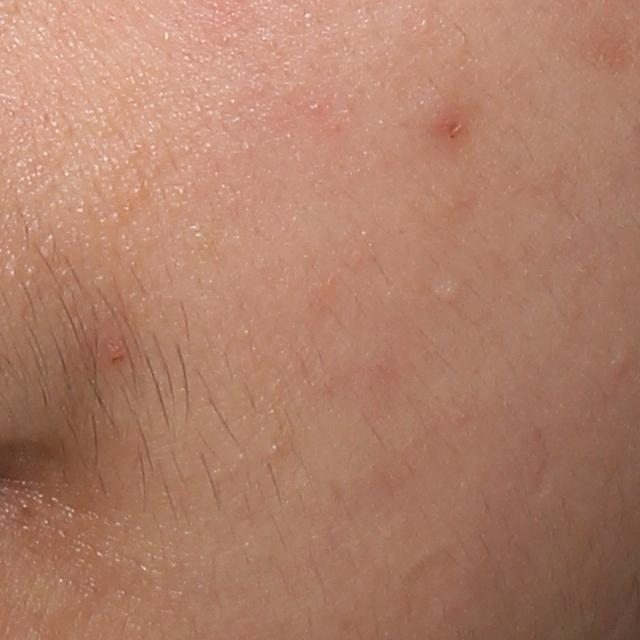comedo: (435, 279, 463, 304)
